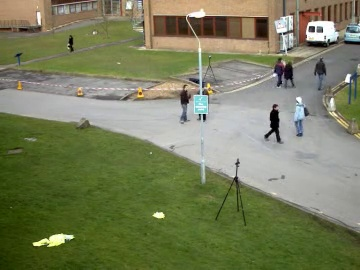person: (178, 85, 194, 123), (178, 83, 193, 123), (178, 84, 193, 123)
